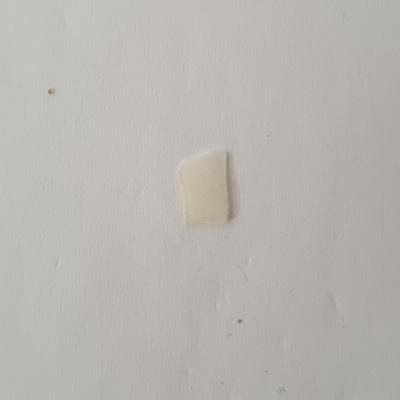plastic: (171, 143, 244, 237)
